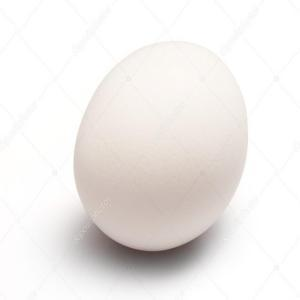Egg: (70, 38, 254, 255)
